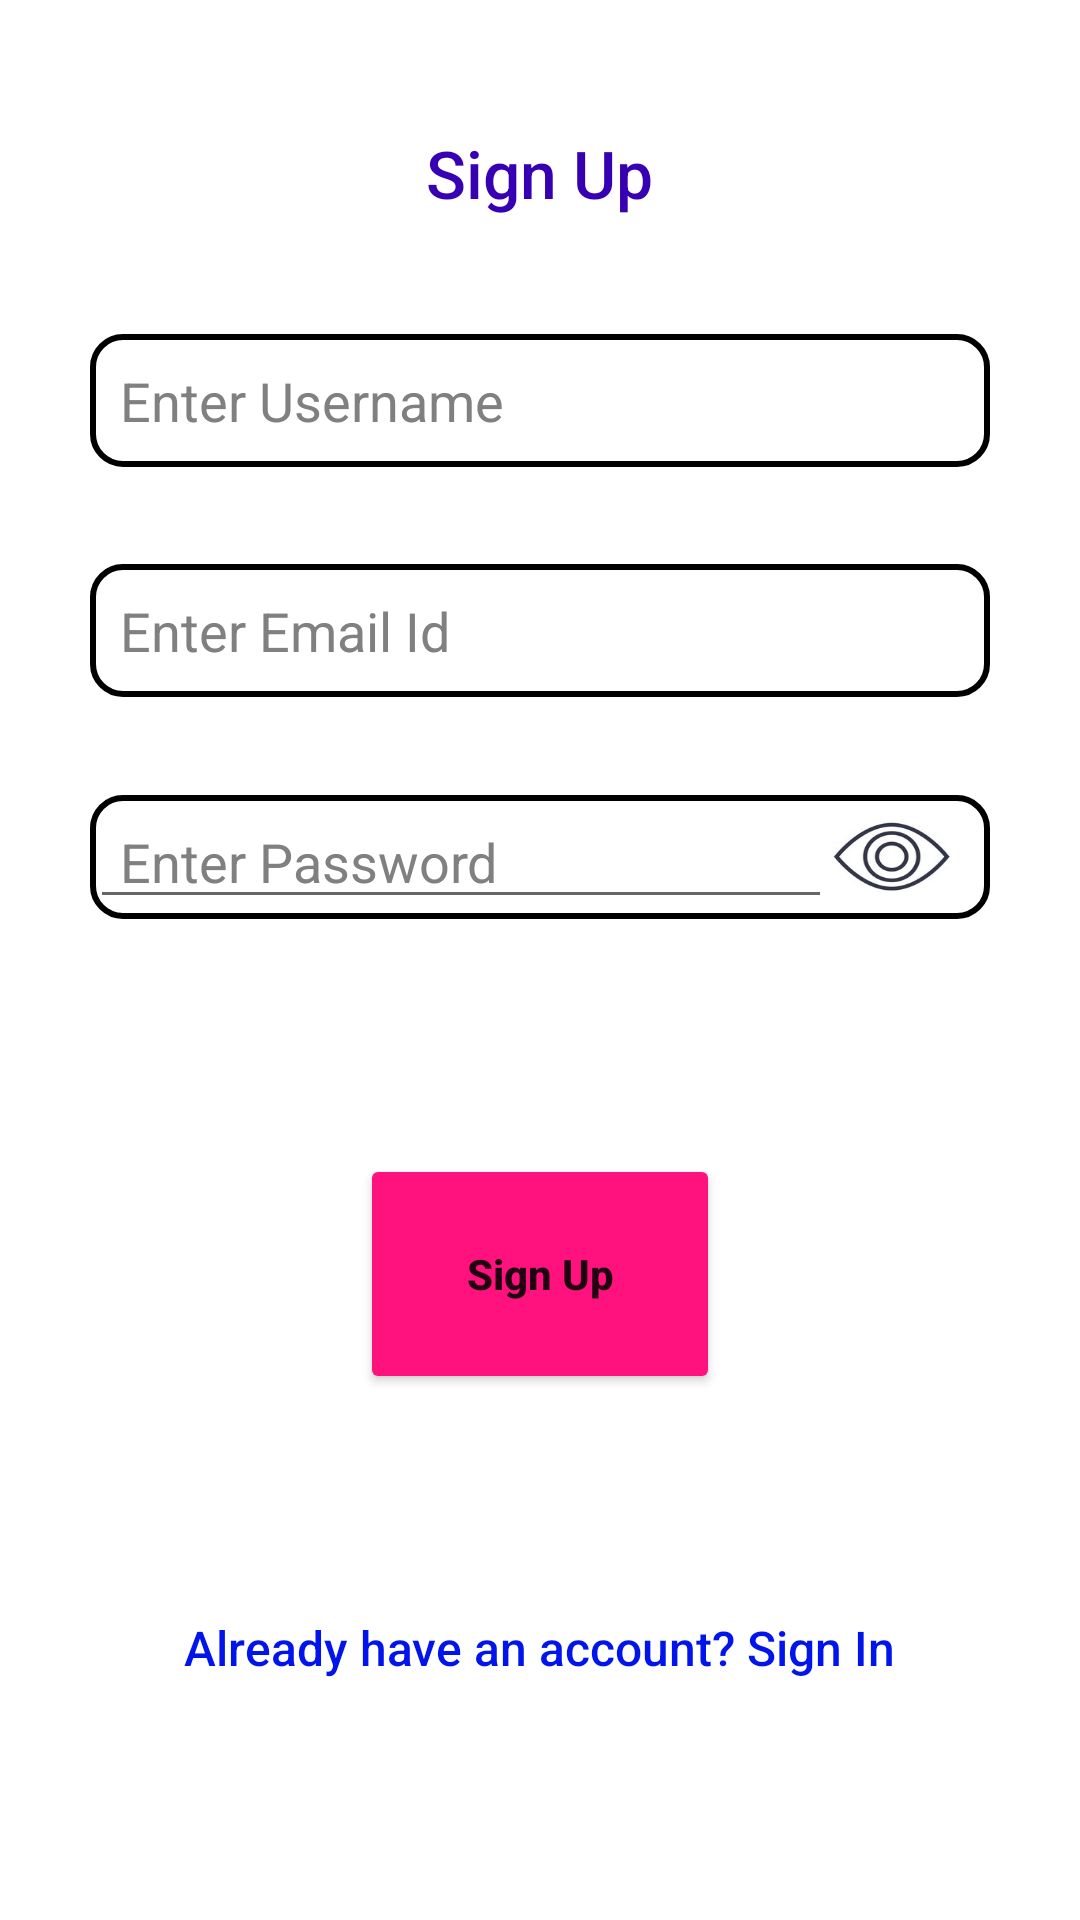

Icons on this 1080px×1920px Android screen, each with its box as [x1,y1,x2,y2]:
show: [834,822,950,891]
